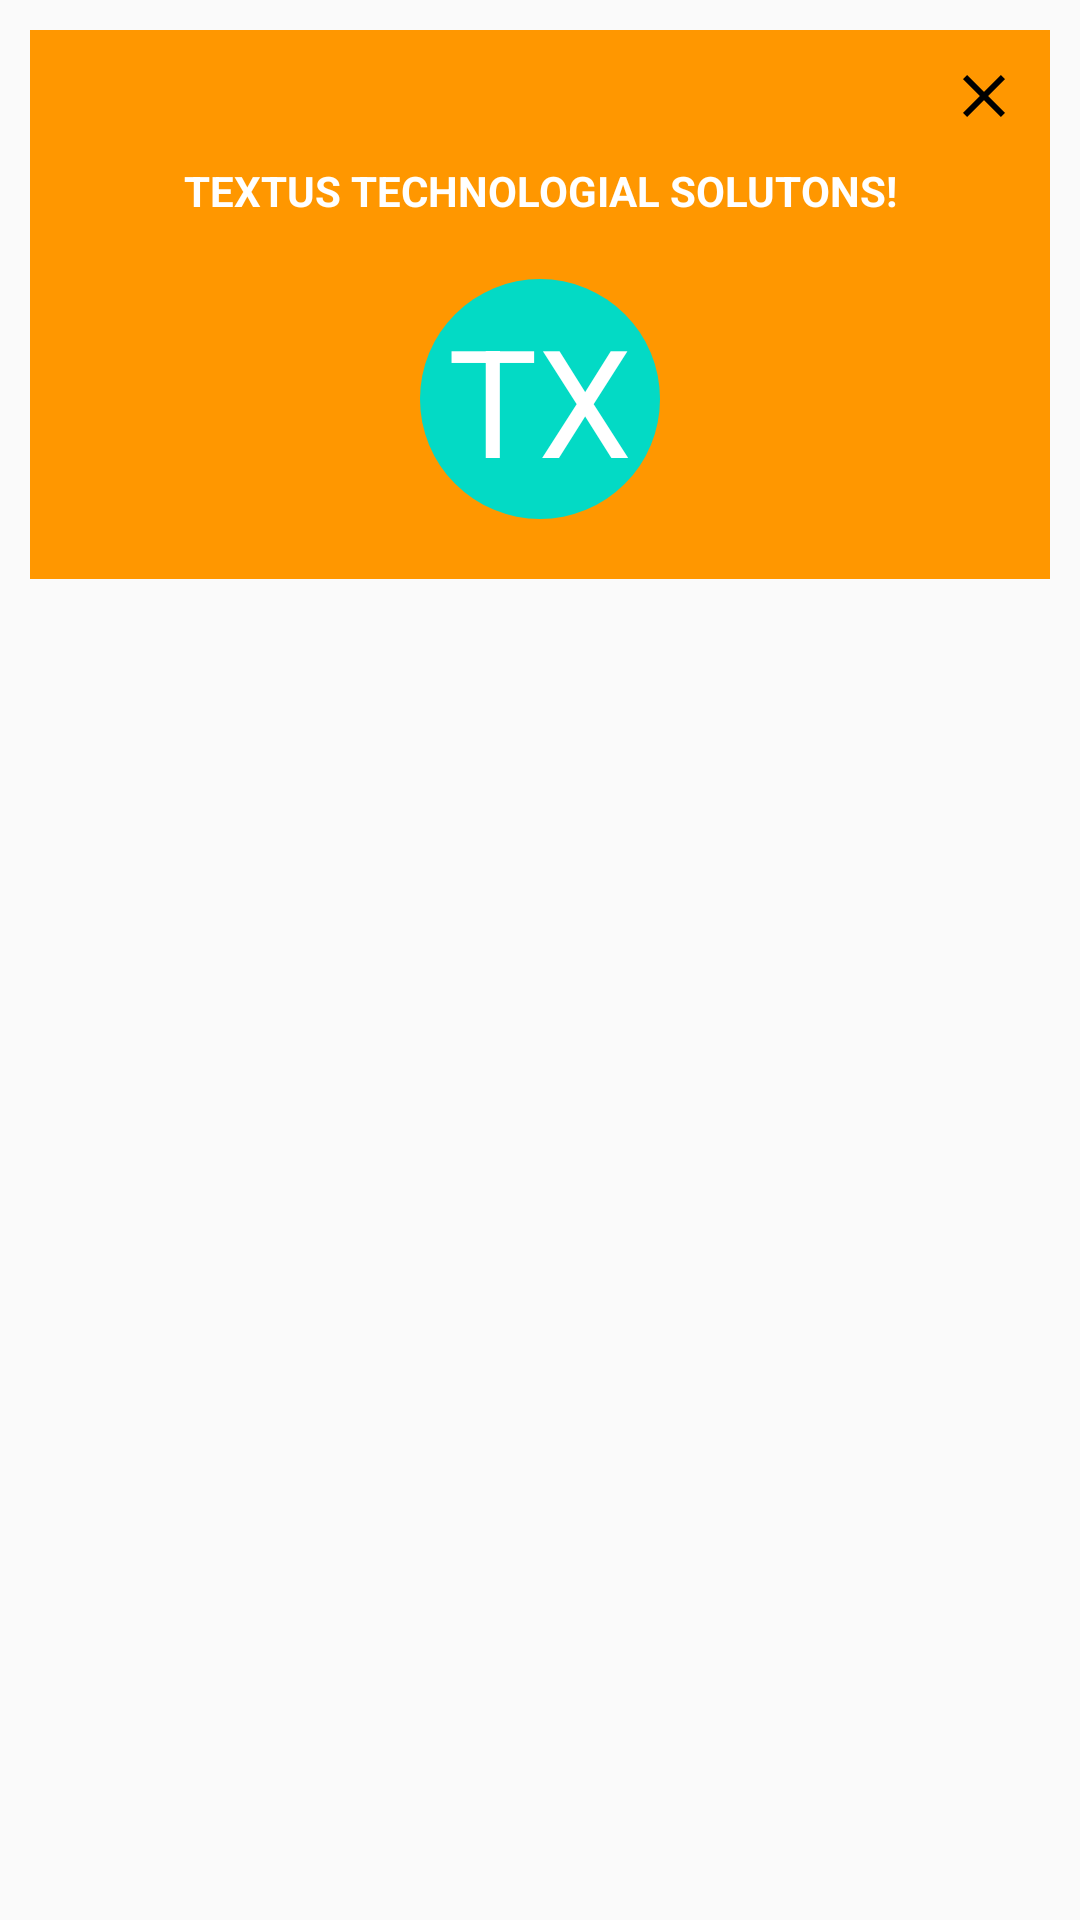

Icon bounding boxes for this 1080x1920 phone screenshot, format (x1, y1, x2, y2):
close: (963, 75, 1005, 117)
